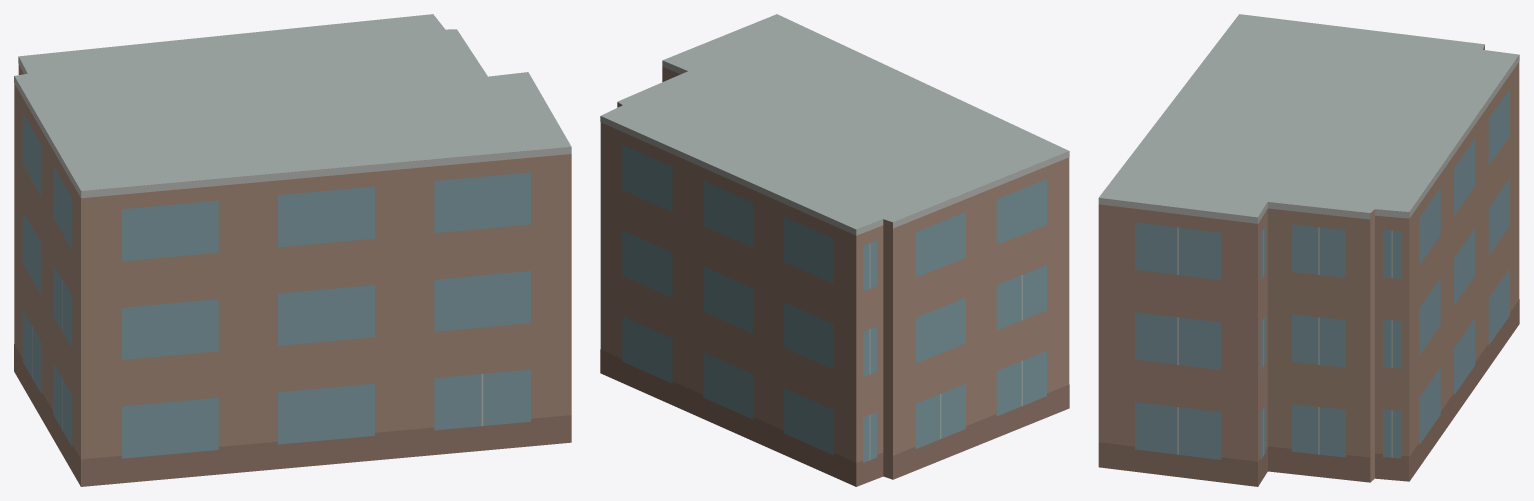
Rendered from survey-upis-32634750.glb.
3 views of the same model, side by side, from view 1: azimuth 30°, elevation 25°; view 2: azimuth 150°, elevation 25°; view 3: azimuth 270°, elevation 25° (orthographic). The views are drawn at different scales.
Parts seen in each view (by area): view 1: survey-upis-32634750.tmp; view 2: survey-upis-32634750.tmp; view 3: survey-upis-32634750.tmp.
Boxes of the visible parts, x1,y1,x2,y2 form: survey-upis-32634750.tmp: (14,14,571,486); survey-upis-32634750.tmp: (600,14,1069,486); survey-upis-32634750.tmp: (1098,14,1519,486).
Bounding box in the file's own units: 16.36 × 10.1 × 14.31.
